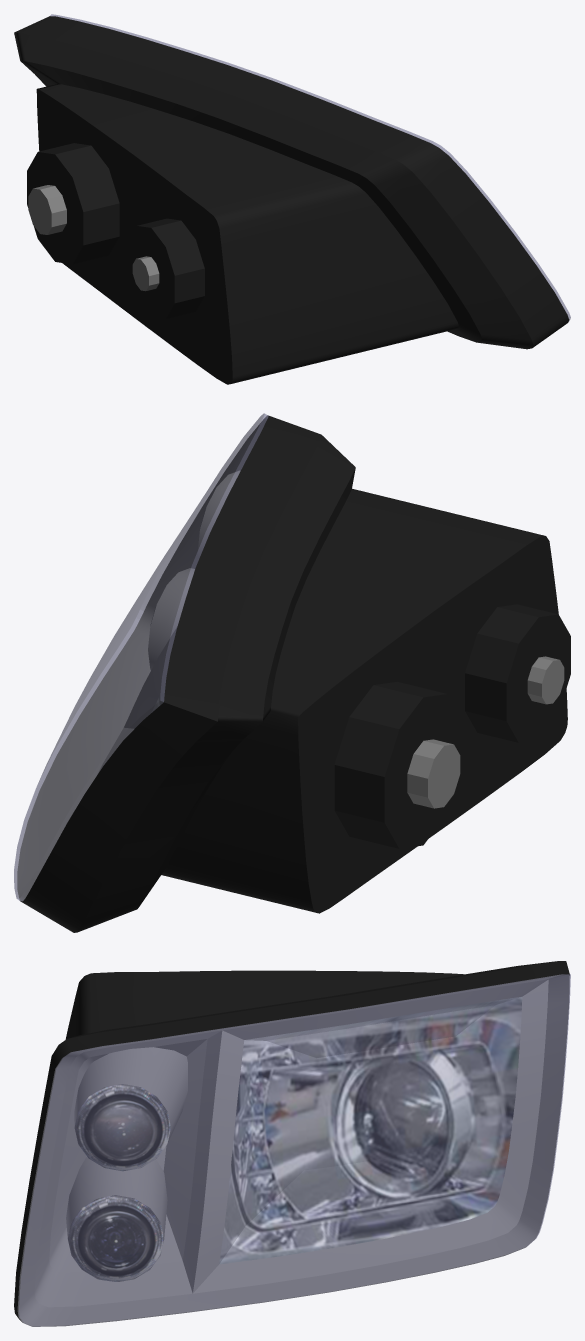
The picture shows the model from 3 angles, top to bottom: view 1: azimuth 30°, elevation 25°; view 2: azimuth 150°, elevation 25°; view 3: azimuth 270°, elevation 25°; orthographic projection. The views are drawn at different scales.
Visible parts, largest first — view 1: X6163_061B_L_X6163_061B_L_5_D, X6163_061B_L_X6163_061B_L_4_DaS, X6163_061B_L_X6163_061B_L_6_DTaSI; view 2: X6163_061B_L_X6163_061B_L_5_D, X6163_061B_L_X6163_061B_L_4_DaS, X6163_061B_L_X6163_061B_L_6_DTaSI; view 3: X6163_061B_L_X6163_061B_L_6_DTaSI, X6163_061B_L_X6163_061B_L_4_DaS, X6163_061B_L_1_N_X6163_061B_L, X6163_061B_L_X6163_061B_L_5_D, X6163_061B_L_X6163_061B_L_2_N, X6163_061B_L_X6163_061B_L_3_N.
Part boxes in pixels (x1,y1,x2,y2): X6163_061B_L_X6163_061B_L_5_D: (14, 16, 569, 384); X6163_061B_L_X6163_061B_L_4_DaS: (28, 185, 159, 291); X6163_061B_L_X6163_061B_L_6_DTaSI: (50, 14, 570, 321); X6163_061B_L_X6163_061B_L_5_D: (20, 415, 570, 932); X6163_061B_L_X6163_061B_L_4_DaS: (17, 415, 564, 901); X6163_061B_L_X6163_061B_L_6_DTaSI: (14, 413, 268, 900); X6163_061B_L_X6163_061B_L_6_DTaSI: (18, 974, 570, 1326); X6163_061B_L_X6163_061B_L_4_DaS: (17, 974, 569, 1326); X6163_061B_L_1_N_X6163_061B_L: (219, 997, 522, 1264); X6163_061B_L_X6163_061B_L_5_D: (14, 961, 569, 1322); X6163_061B_L_X6163_061B_L_2_N: (74, 1084, 170, 1171); X6163_061B_L_X6163_061B_L_3_N: (68, 1195, 163, 1281).
Bounding box in the file's own units: 33.81 × 18.67 × 39.66.
